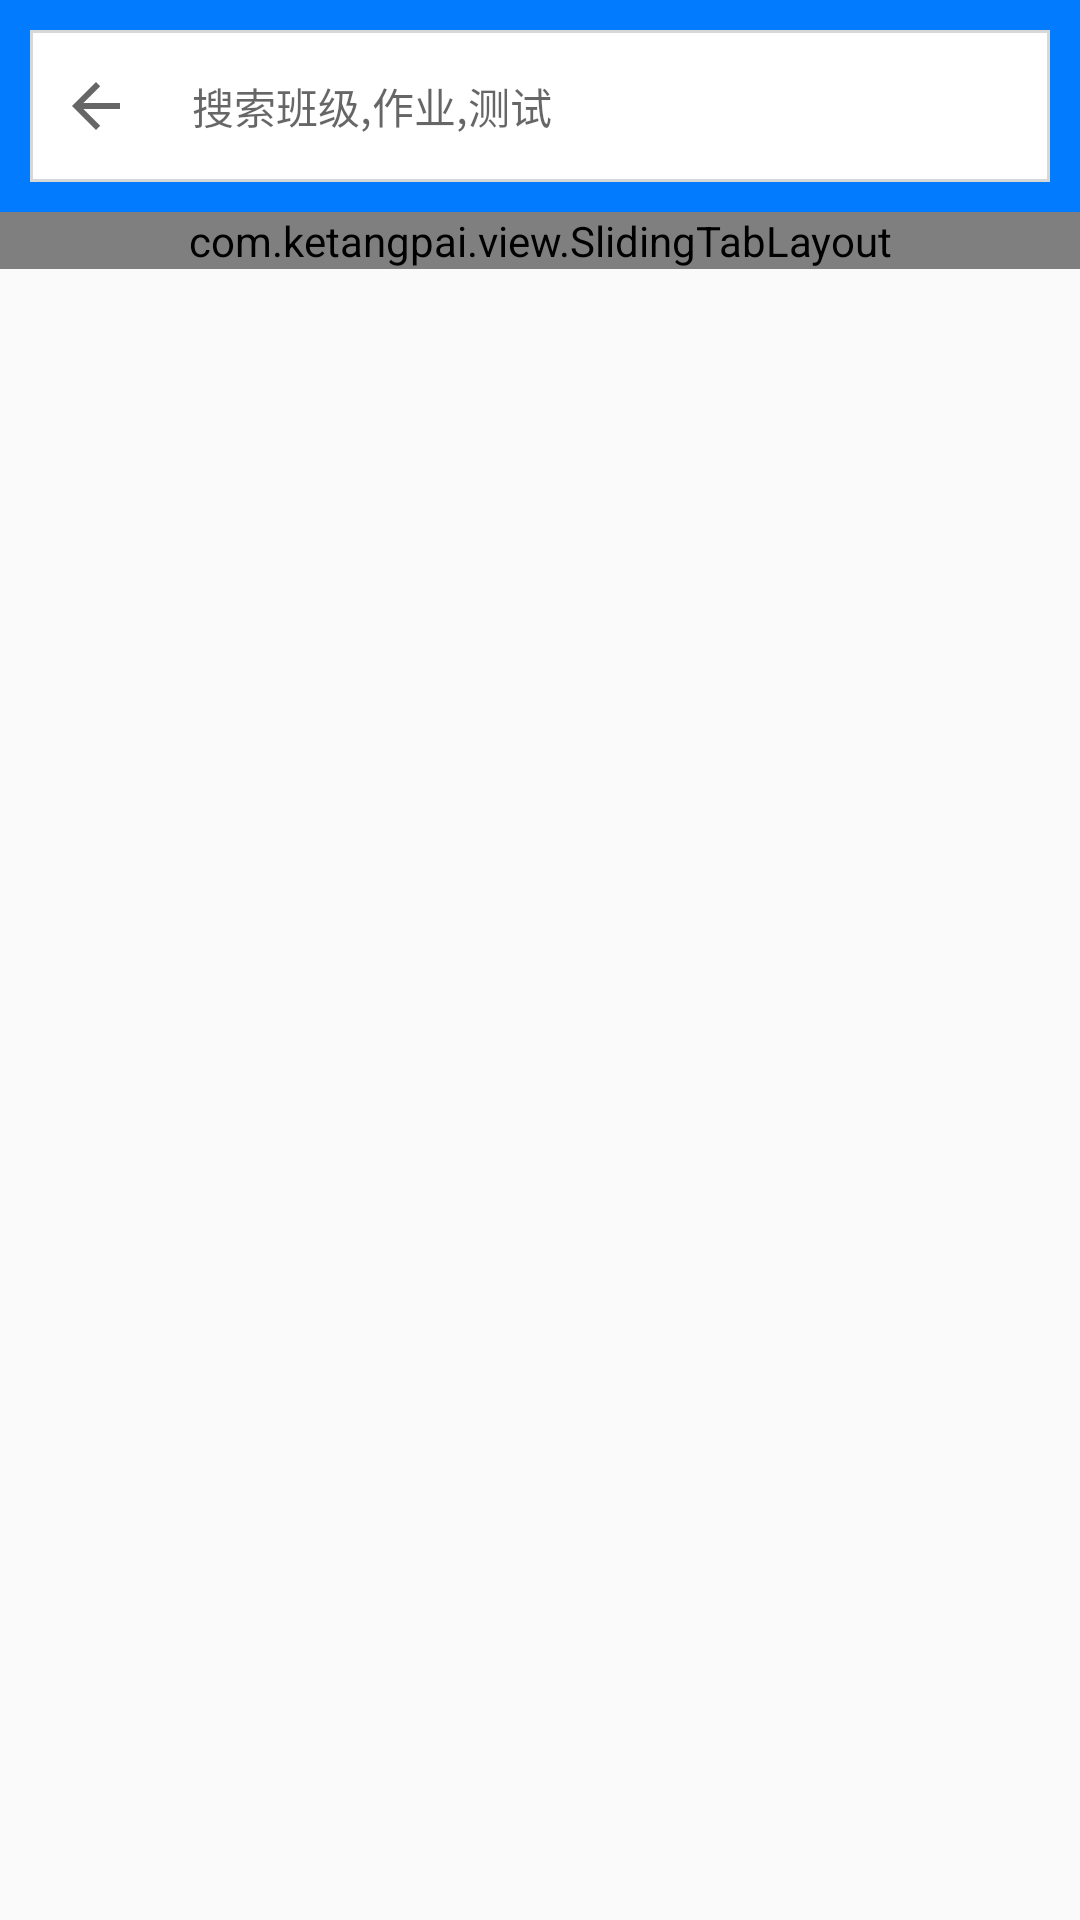

Where icons sit on this 1080 x 1920 app screen, as BBox(x1, y1, x2, y2):
ab back: BBox(72, 82, 120, 130)
